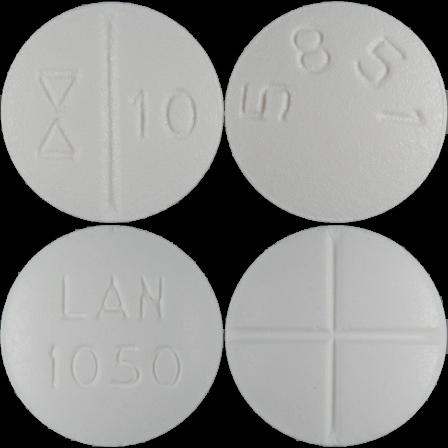42254-362: (0, 0, 224, 224)
